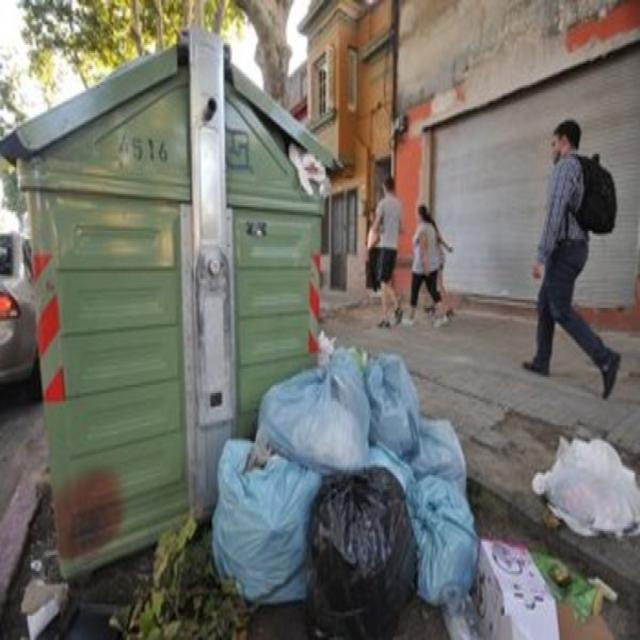Trashbag: (302, 466, 428, 636)
